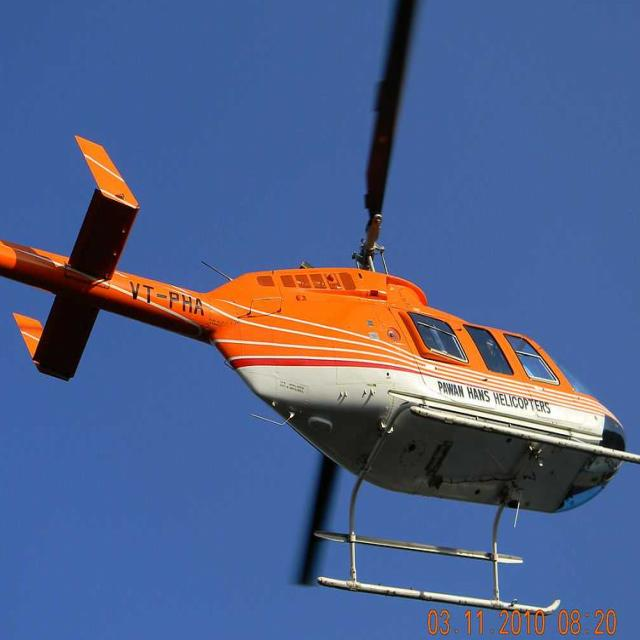helicopter: (1, 1, 640, 634)
